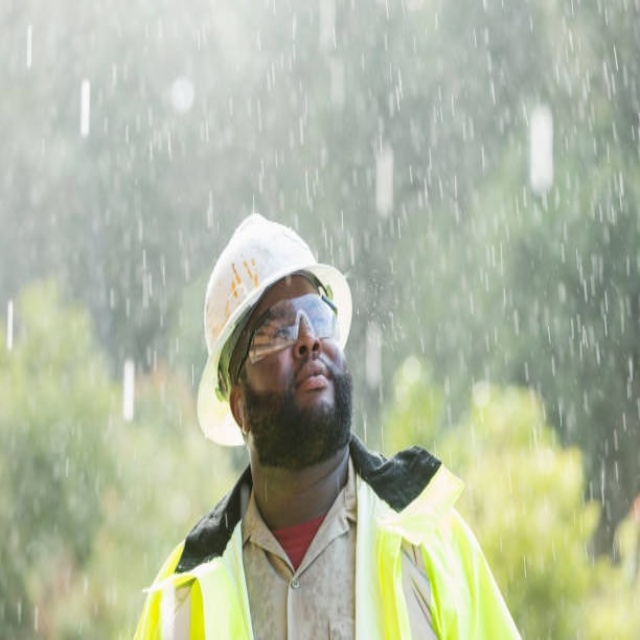Gafas: (229, 285, 341, 389)
Sin_mascara: (287, 353, 345, 420)
